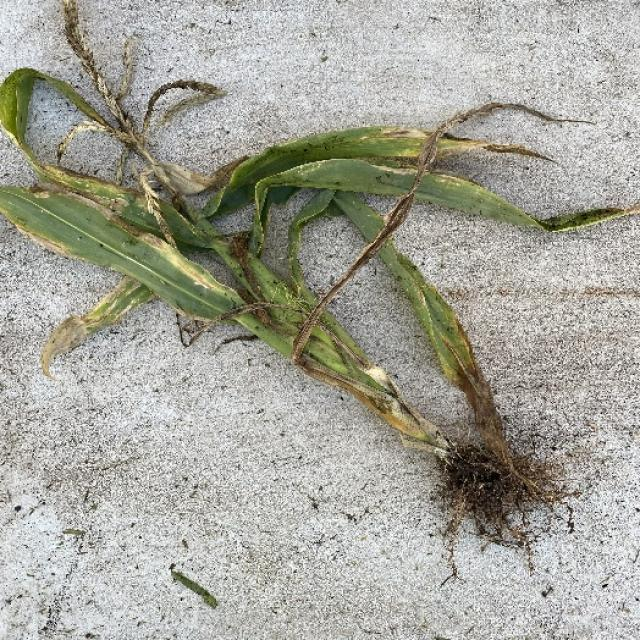organik: (32, 60, 602, 549)
